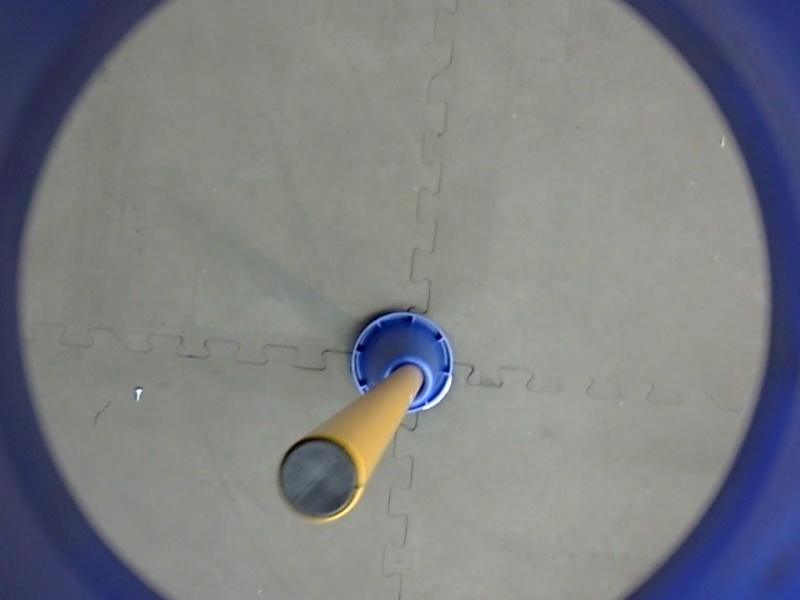tip: (273, 429, 372, 528)
